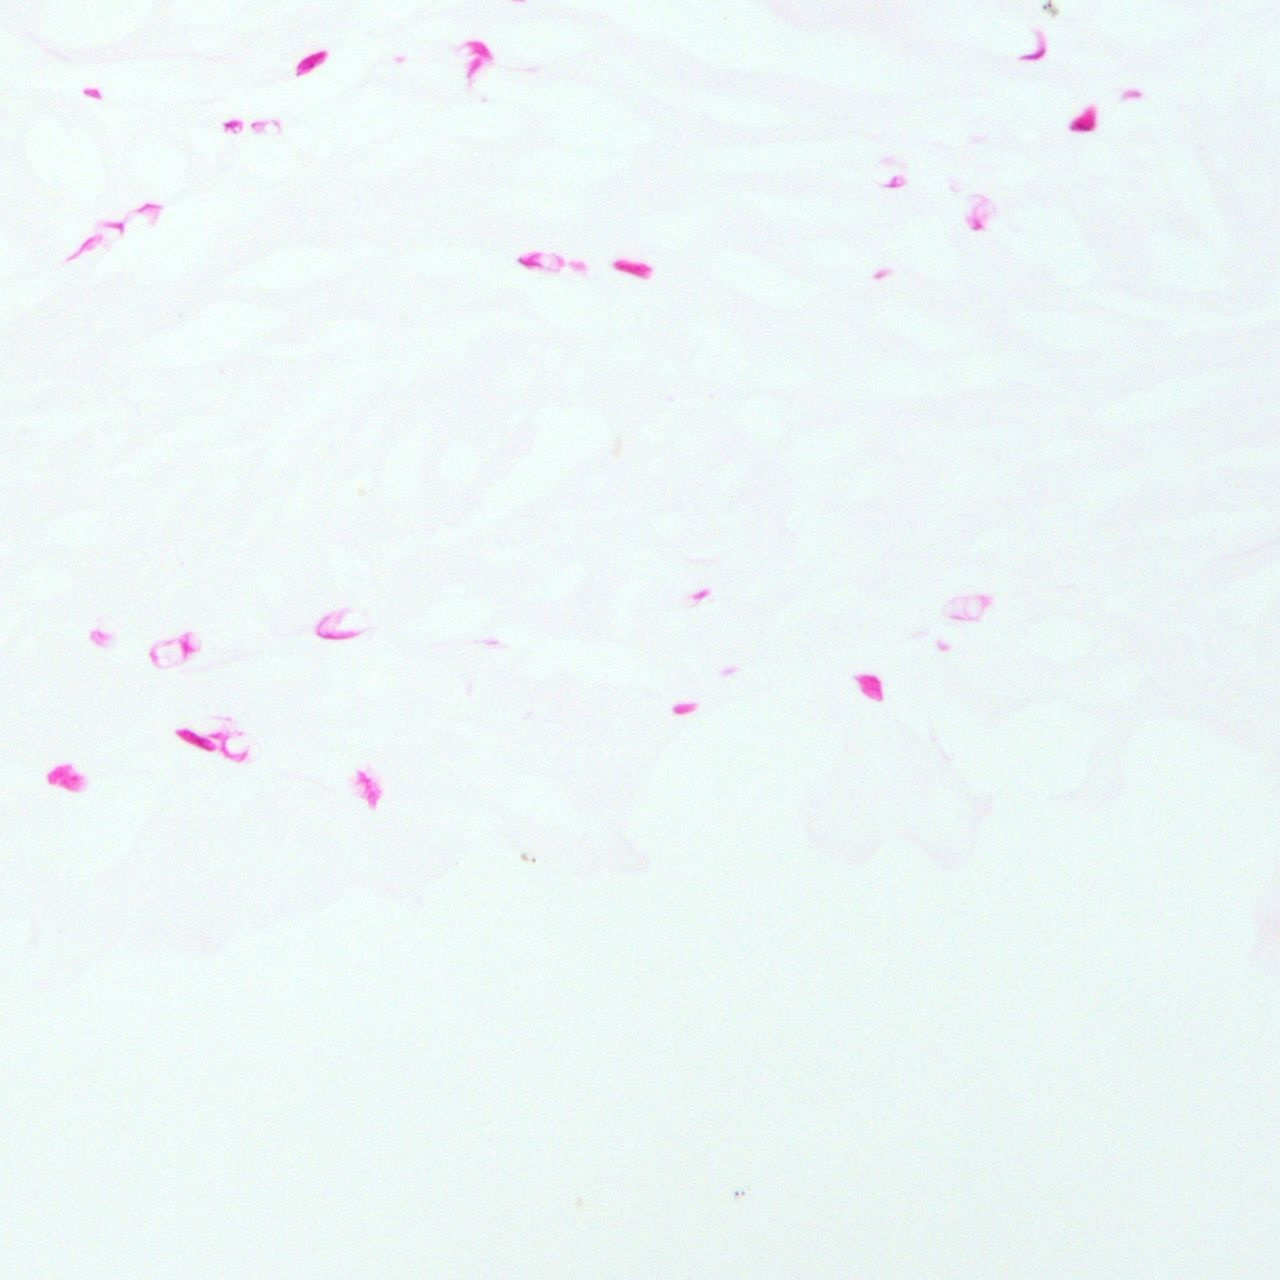dust: (531, 856, 535, 862)
nucleus-FG: (610, 250, 658, 284), (172, 723, 222, 756), (290, 45, 334, 79), (1069, 103, 1098, 132)
